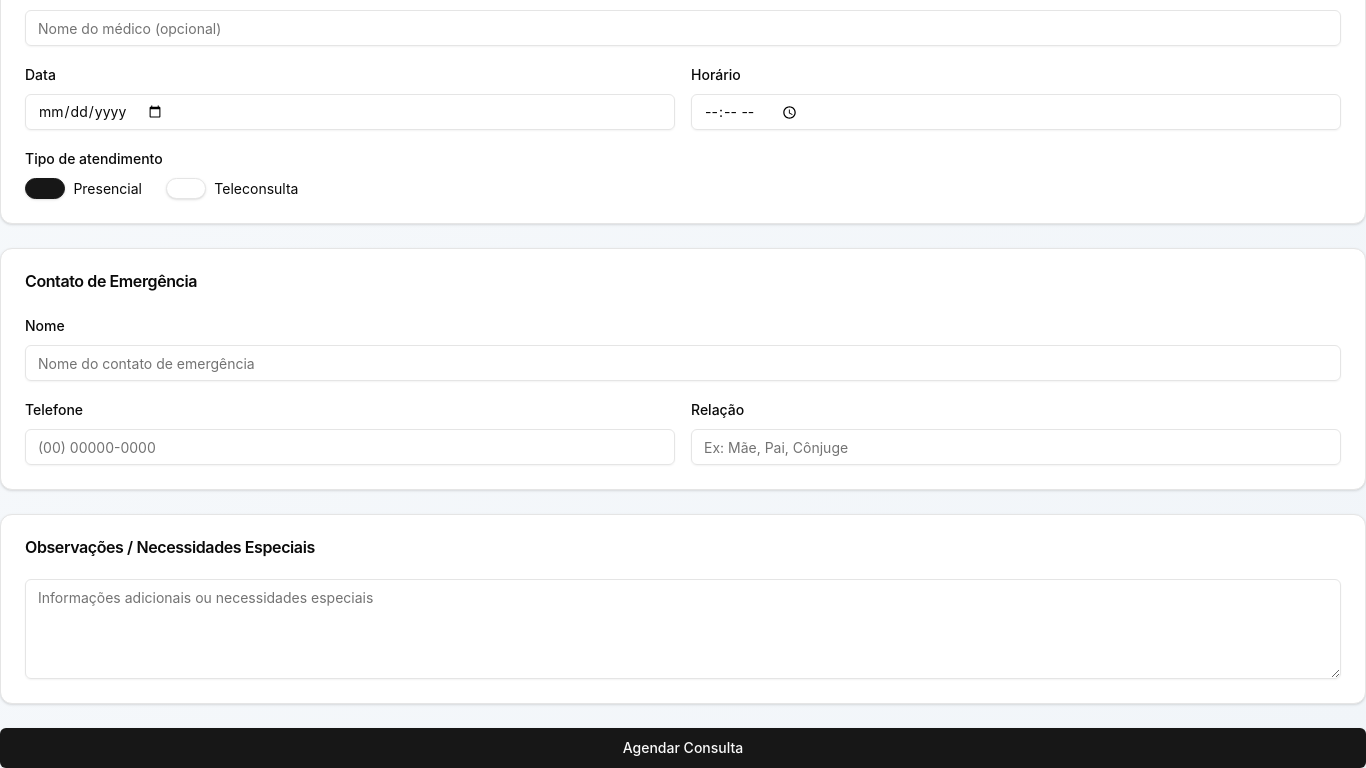
Test case: AppointmentForm › validates required fields
(page scrolled)
Click the button "Agendar Consulta" at [683, 748], box [0,728,1365,767]
(page scrolled)
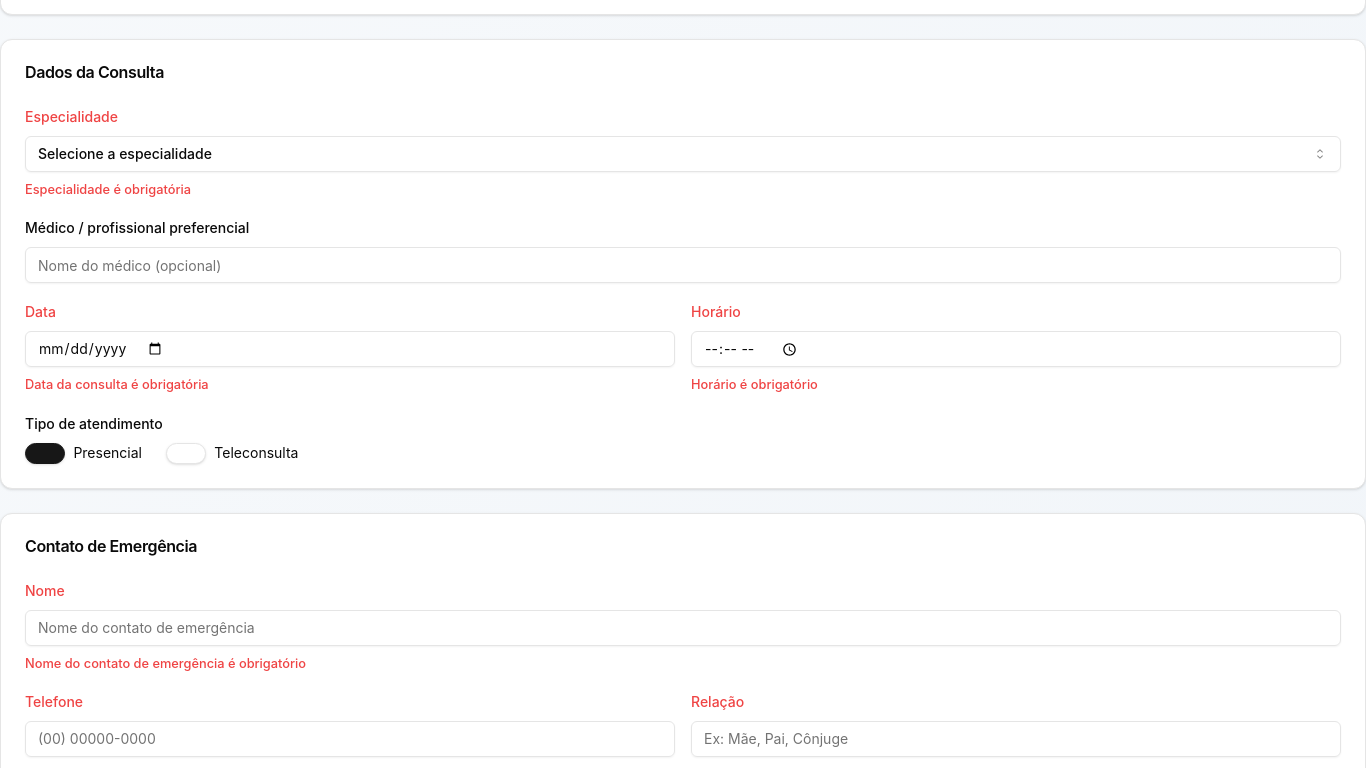
Now the text "Especialidade é obrigatória" is shown, box [25,182,191,197]
Now the text "Data da consulta é obrigatória" is shown, box [25,377,209,392]
Now the text "Horário é obrigatório" is shown, box [691,377,818,392]
